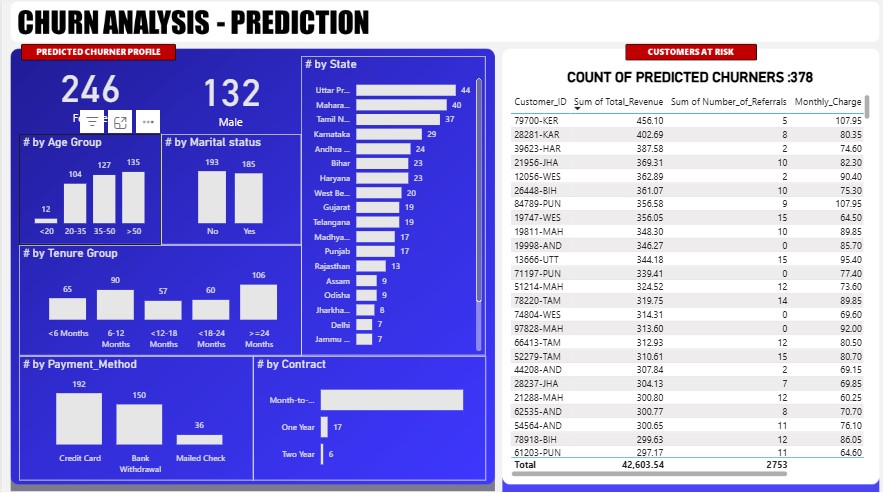

The page's visual inventory and layout, read from the dashboard file:
{"tool":"powerbi","page":{"name":"Churn Prediction","canvas":[1280,720],"ordinal":2},"visuals":[{"type":"tableEx","fields":{"Values":["Predictions.Customer_ID","Sum(Predictions.Total_Revenue)","Sum(Predictions.Number_of_Referrals)","Predictions.Monthly_Charge","Sum(Predictions.Total_Refunds)"]},"box":[730,137.1,530,562.9],"z":0},{"type":"card","fields":{"Values":["tbl_Measures.Count Predicted Churner"]},"box":[24.3,87.1,205.7,102.9],"z":1000},{"type":"card","fields":{"Values":["tbl_Measures.Count Predicted Churner"]},"box":[228.6,87.1,204.3,112.9],"z":2000},{"type":"card","fields":{"Values":["tbl_Measures.Title Predicted Churner"]},"box":[788.6,87.1,414.3,61.4],"z":3000},{"type":"clusteredColumnChart","fields":{"Category":["mapping_AgeGrp.Age Group"],"Y":["CountNonNull(Predictions.Customer_ID)"]},"box":[24.3,200,205.7,160],"z":4000},{"type":"clusteredColumnChart","fields":{"Category":["Predictions.Married"],"Y":["CountNonNull(Predictions.Customer_ID)"]},"box":[230,200,202.9,160],"z":5000},{"type":"clusteredColumnChart","fields":{"Category":["Mapping_TenureGRP.Tenure Group"],"Y":["CountNonNull(Predictions.Customer_ID)"]},"box":[24.3,360,408.6,160],"z":6000},{"type":"clusteredColumnChart","fields":{"Category":["Predictions.Payment_Method"],"Y":["CountNonNull(Predictions.Customer_ID)"]},"box":[24.3,520,338.6,180],"z":7000},{"type":"clusteredBarChart","fields":{"Category":["Predictions.Contract"],"Y":["CountNonNull(Predictions.Customer_ID)"]},"box":[362.9,520,337.1,180],"z":8000},{"type":"clusteredBarChart","fields":{"Category":["Predictions.State"],"Y":["CountNonNull(Predictions.Customer_ID)"]},"box":[432.9,87.1,267.1,432.9],"z":9000}]}

Visuals, with their boxes in screenshot pixels (x1, y1, x2, y2), scaled from the page's 1280x720 canvas onto the 883x493 screenshot:
tableEx - Predictions.Customer_ID x Sum(Predictions.Total_Revenue): {"x1": 504, "y1": 94, "x2": 869, "y2": 479}
card - tbl_Measures.Count Predicted Churner: {"x1": 17, "y1": 60, "x2": 159, "y2": 130}
card - tbl_Measures.Count Predicted Churner: {"x1": 158, "y1": 60, "x2": 299, "y2": 137}
card - tbl_Measures.Title Predicted Churner: {"x1": 544, "y1": 60, "x2": 830, "y2": 102}
clusteredColumnChart - mapping_AgeGrp.Age Group x CountNonNull(Predictions.Customer_ID): {"x1": 17, "y1": 137, "x2": 159, "y2": 246}
clusteredColumnChart - Predictions.Married x CountNonNull(Predictions.Customer_ID): {"x1": 159, "y1": 137, "x2": 299, "y2": 246}
clusteredColumnChart - Mapping_TenureGRP.Tenure Group x CountNonNull(Predictions.Customer_ID): {"x1": 17, "y1": 246, "x2": 299, "y2": 356}
clusteredColumnChart - Predictions.Payment_Method x CountNonNull(Predictions.Customer_ID): {"x1": 17, "y1": 356, "x2": 250, "y2": 479}
clusteredBarChart - Predictions.Contract x CountNonNull(Predictions.Customer_ID): {"x1": 250, "y1": 356, "x2": 483, "y2": 479}
clusteredBarChart - Predictions.State x CountNonNull(Predictions.Customer_ID): {"x1": 299, "y1": 60, "x2": 483, "y2": 356}
